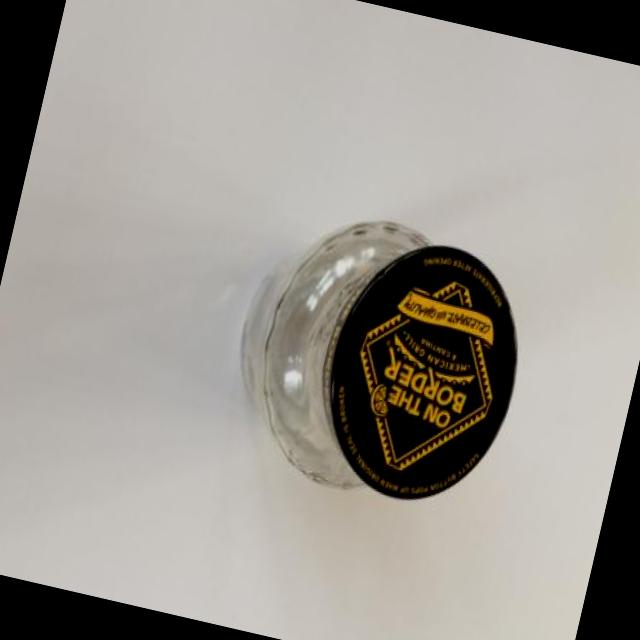chai_thuy_tinh: (241, 219, 430, 489)
nhom: (330, 243, 517, 498)
